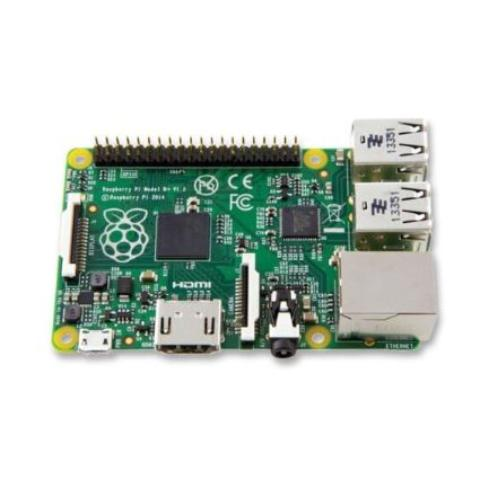Raspberry-Pi-1-Model-B-: (46, 110, 446, 364)
